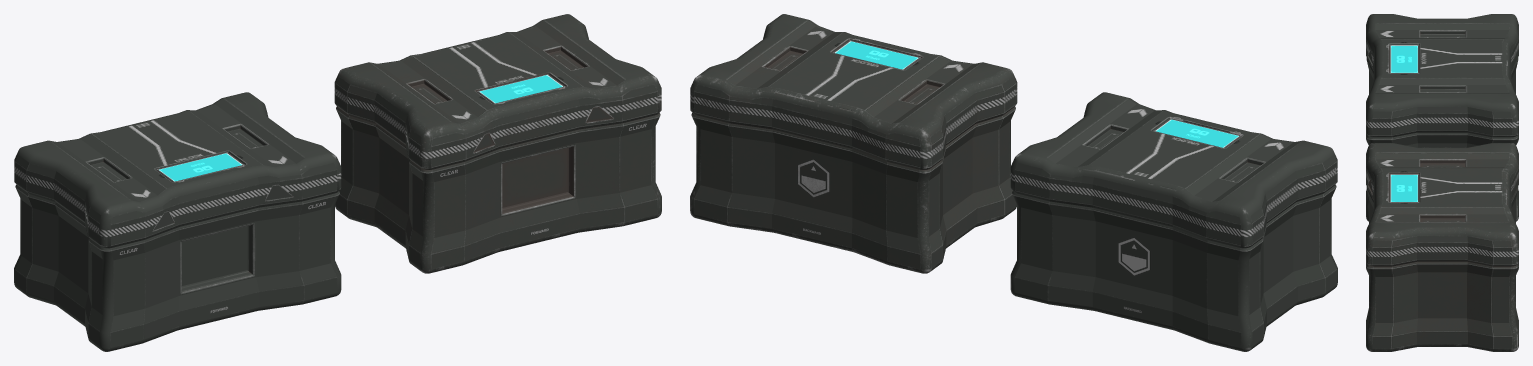
Rendered from sci-fi_crate_clean__dirty_model.glb.
3 views of the same model, side by side, from view 1: azimuth 30°, elevation 25°; view 2: azimuth 150°, elevation 25°; view 3: azimuth 270°, elevation 25° (orthographic). The views are drawn at different scales.
Visible parts, largest first — view 1: Clean, Dirty; view 2: Clean, Dirty; view 3: Dirty, Clean.
Boxes of the visible parts, box(x1,y1,x2,y2) form: Clean: box(14, 92, 341, 351); Dirty: box(334, 14, 661, 273); Clean: box(1010, 92, 1337, 351); Dirty: box(690, 14, 1017, 273); Dirty: box(1366, 143, 1518, 351); Clean: box(1366, 14, 1518, 221).
Size of the model in its own units: 7 by 1.7 by 2.
5 materials, 4 textured.
